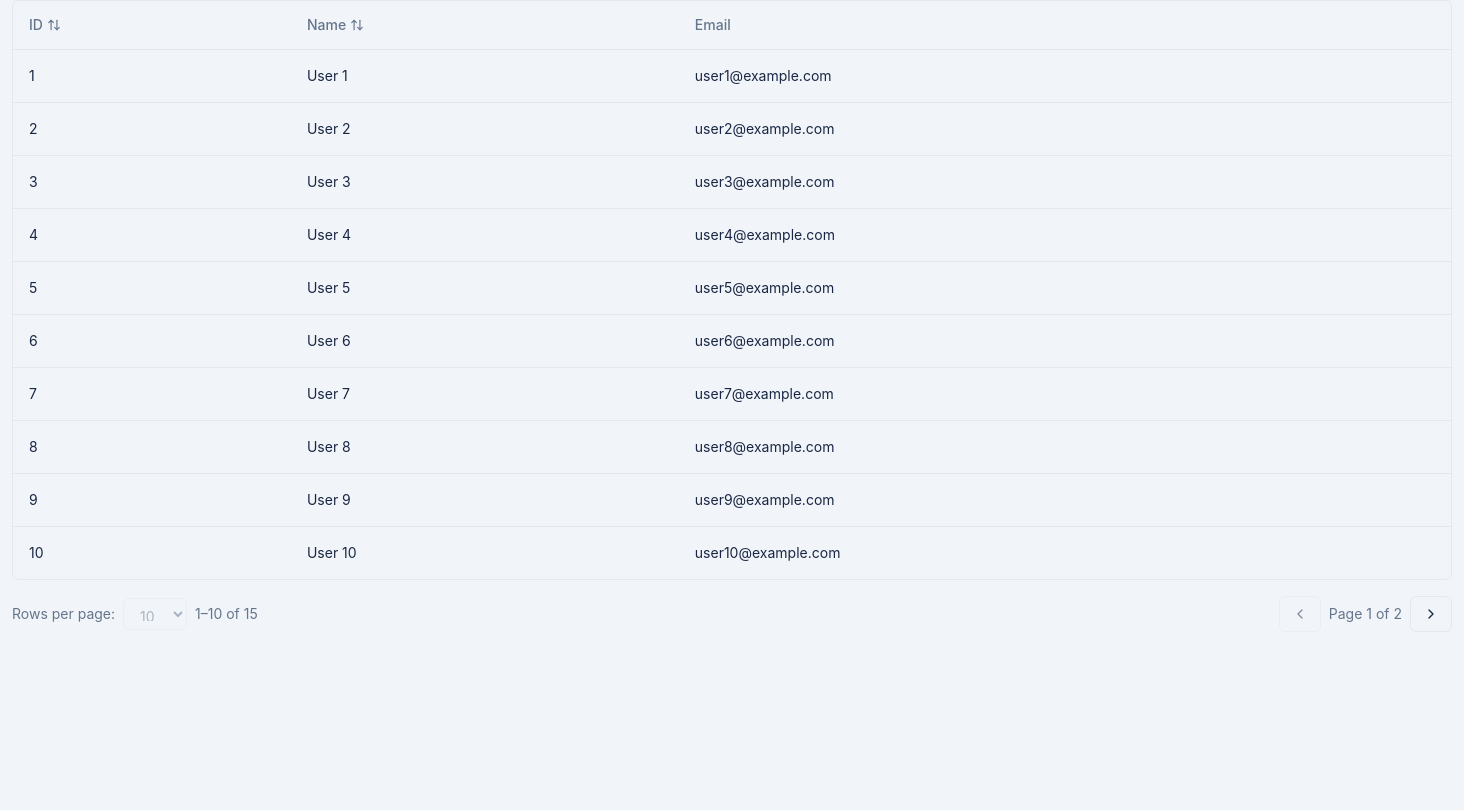
DataTable › paginates data
The width and height of the screenshot is (1464, 810).
Expected: the text "User 1" is shown, left=291, top=49, right=679, bottom=102
Expected: the text "User 10" is shown, left=291, top=526, right=679, bottom=578
Click the button named "Next page" at x=1431, y=614, box left=1410, top=596, right=1452, bottom=632
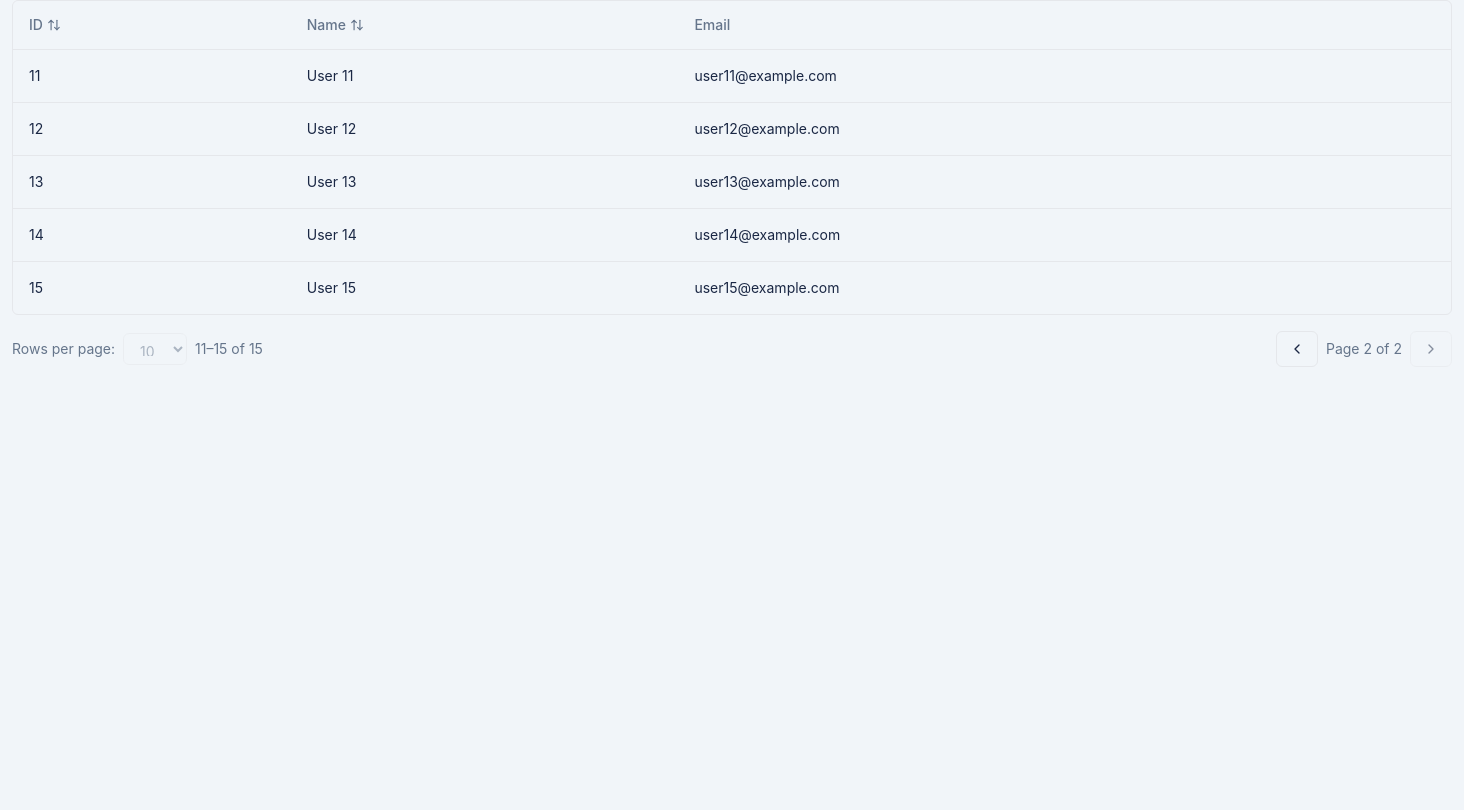
Expected: the text "User 11" is shown, left=291, top=49, right=678, bottom=102
